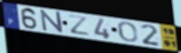2: (140, 24, 162, 48)
4: (93, 17, 112, 41)
6: (20, 7, 39, 31)
N: (39, 10, 65, 34)
O: (117, 21, 139, 43)
Z: (66, 14, 91, 37)
